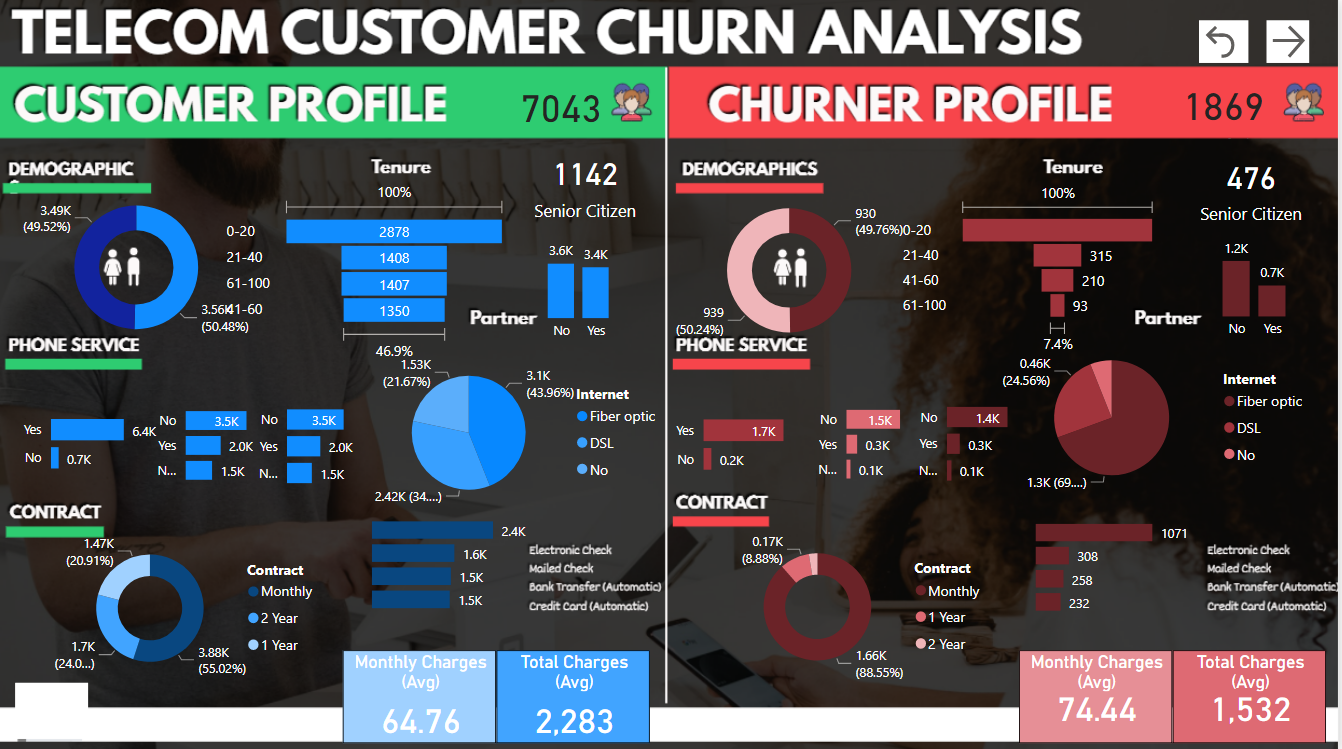

This screenshot's page, from the dashboard's own definition file:
{"tool":"powerbi","page":{"name":"Summary","canvas":[1280,720],"ordinal":1},"visuals":[{"type":"card","fields":{"Values":["CountNonNull(Churned_Data.Churn)"]},"box":[1089,83.6,161.2,54.9],"z":0},{"type":"card","fields":{"Values":["CountNonNull(Telco-Churn-Analysis.Churn)"]},"box":[456.5,84.7,161.6,54.9],"z":1000},{"type":"donutChart","fields":{"Category":["Telco-Churn-Analysis.gender"],"Y":["CountNonNull(Telco-Churn-Analysis.gender)"]},"box":[17.3,169.4,229,174.1],"z":2000},{"type":"donutChart","fields":{"Category":["Churned_Data.gender"],"Y":["CountNonNull(Churned_Data.gender)"]},"box":[639.9,172.2,229.6,174.6],"z":3000},{"type":"funnel","fields":{"Category":["Telco-Churn-Analysis.Tenure_Bin"],"Y":["CountNonNull(Telco-Churn-Analysis.Tenure_Bin)"]},"box":[212.9,169.1,278,180.4],"z":4000},{"type":"funnel","fields":{"Category":["Churned_Data.Tenure_Bin"],"Y":["CountNonNull(Churned_Data.Tenure_Bin)"]},"box":[858.5,169.6,253.1,174.3],"z":5000},{"type":"card","fields":{"Values":["Sum(Telco-Churn-Analysis.SeniorCitizen)"]},"box":[505.1,138,109.8,76.9],"z":6000},{"type":"card","fields":{"Values":["Sum(Churned_Data.SeniorCitizen)"]},"box":[1140.4,141.2,111.4,78.4],"z":7000},{"type":"clusteredColumnChart","fields":{"Category":["Telco-Churn-Analysis.Partner"],"Y":["CountNonNull(Telco-Churn-Analysis.Partner)"]},"box":[489.4,219.6,128.6,116.1],"z":8000},{"type":"clusteredColumnChart","fields":{"Category":["Churned_Data.Partner"],"Y":["CountNonNull(Churned_Data.Partner)"]},"box":[1132.5,214.9,133.3,119.2],"z":9000},{"type":"clusteredBarChart","fields":{"Category":["Telco-Churn-Analysis.PhoneService"],"Y":["CountNonNull(Telco-Churn-Analysis.PhoneService)"]},"box":[17.3,363.9,139.6,114.5],"z":10000},{"type":"clusteredBarChart","fields":{"Category":["Churned_Data.PhoneService"],"Y":["CountNonNull(Churned_Data.PhoneService)"]},"box":[640,363.9,141.2,116.1],"z":11000},{"type":"clusteredBarChart","fields":{"Category":["Telco-Churn-Analysis.OnlineSecurity"],"Y":["CountNonNull(Telco-Churn-Analysis.OnlineSecurity)"]},"box":[131.8,371.8,134.9,103.5],"z":12000},{"type":"clusteredBarChart","fields":{"Category":["Churned_Data.OnlineSecurity"],"Y":["CountNonNull(Churned_Data.OnlineSecurity)"]},"box":[765.5,370.2,125.5,103.5],"z":13000},{"type":"clusteredBarChart","fields":{"Category":["Telco-Churn-Analysis.TechSupport"],"Y":["CountNonNull(Telco-Churn-Analysis.TechSupport)"]},"box":[229,368.6,133.3,109.8],"z":14000},{"type":"clusteredBarChart","fields":{"Category":["Churned_Data.TechSupport"],"Y":["CountNonNull(Churned_Data.TechSupport)"]},"box":[858,367.1,136.5,109.8],"z":15000},{"type":"pieChart","fields":{"Y":["CountNonNull(Telco-Churn-Analysis.InternetService)"],"Category":["Telco-Churn-Analysis.InternetService"]},"box":[342,334.1,299.6,160],"z":16000},{"type":"pieChart","fields":{"Category":["Churned_Data.InternetService"],"Y":["CountNonNull(Churned_Data.InternetService)"]},"box":[952.2,320,307.5,160],"z":17000},{"type":"donutChart","fields":{"Category":["Telco-Churn-Analysis.Contract"],"Y":["CountNonNull(Telco-Churn-Analysis.Contract)"]},"box":[47.1,505.1,268.2,153.7],"z":18000},{"type":"donutChart","fields":{"Category":["Churned_Data.Contract"],"Y":["CountNonNull(Churned_Data.Contract)"]},"box":[683.8,503.5,268,154.1],"z":19000},{"type":"clusteredBarChart","fields":{"Category":["Telco-Churn-Analysis.PaymentMethod"],"Y":["CountNonNull(Telco-Churn-Analysis.PaymentMethod)"]},"box":[351.4,486.3,161.6,102],"z":20000},{"type":"clusteredBarChart","fields":{"Category":["Churned_Data.PaymentMethod"],"Y":["CountNonNull(Churned_Data.PaymentMethod)"]},"box":[985.1,487.8,160,102],"z":21000},{"type":"card","title":"Monthly Charges (Avg)","fields":{"Values":["Avg(Telco-Churn-Analysis.MonthlyCharges)"]},"box":[328.1,622.5,146.5,88.9],"z":22000},{"type":"card","title":"Monthly Charges (Avg)","fields":{"Values":["Avg(Churned_Data.MonthlyCharges)"]},"box":[974.4,622.5,146.5,88.9],"z":23000},{"type":"card","title":"Total Charges (Avg)","fields":{"Values":["Avg(Churned_Data.TotalCharges)"]},"box":[1120.9,622.5,146.5,88.9],"z":24000},{"type":"card","title":"Total Charges (Avg)","fields":{"Values":["Avg(Telco-Churn-Analysis.TotalCharges)"]},"box":[474.7,622.5,146.5,88.9],"z":25000},{"type":"actionButton","box":[1211,20.4,40.8,40.8],"z":26000},{"type":"actionButton","box":[1146.7,20.4,47.1,40.8],"z":27000},{"type":"shape","box":[15.5,653.1,69.3,53.7],"z":27001}]}

Visuals, with their boxes in screenshot pixels (x1, y1, x2, y2), scaled from the page's 1280x720 canvas onto the 1342x749 screenshot:
card - CountNonNull(Churned_Data.Churn): bbox=[1142, 87, 1311, 144]
card - CountNonNull(Telco-Churn-Analysis.Churn): bbox=[479, 88, 648, 145]
donutChart - Telco-Churn-Analysis.gender x CountNonNull(Telco-Churn-Analysis.gender): bbox=[18, 176, 258, 357]
donutChart - Churned_Data.gender x CountNonNull(Churned_Data.gender): bbox=[671, 179, 912, 361]
funnel - Telco-Churn-Analysis.Tenure_Bin x CountNonNull(Telco-Churn-Analysis.Tenure_Bin): bbox=[223, 176, 515, 364]
funnel - Churned_Data.Tenure_Bin x CountNonNull(Churned_Data.Tenure_Bin): bbox=[900, 176, 1165, 358]
card - Sum(Telco-Churn-Analysis.SeniorCitizen): bbox=[530, 144, 645, 224]
card - Sum(Churned_Data.SeniorCitizen): bbox=[1196, 147, 1312, 228]
clusteredColumnChart - Telco-Churn-Analysis.Partner x CountNonNull(Telco-Churn-Analysis.Partner): bbox=[513, 228, 648, 349]
clusteredColumnChart - Churned_Data.Partner x CountNonNull(Churned_Data.Partner): bbox=[1187, 224, 1327, 348]
clusteredBarChart - Telco-Churn-Analysis.PhoneService x CountNonNull(Telco-Churn-Analysis.PhoneService): bbox=[18, 379, 164, 498]
clusteredBarChart - Churned_Data.PhoneService x CountNonNull(Churned_Data.PhoneService): bbox=[671, 379, 819, 499]
clusteredBarChart - Telco-Churn-Analysis.OnlineSecurity x CountNonNull(Telco-Churn-Analysis.OnlineSecurity): bbox=[138, 387, 280, 494]
clusteredBarChart - Churned_Data.OnlineSecurity x CountNonNull(Churned_Data.OnlineSecurity): bbox=[803, 385, 934, 493]
clusteredBarChart - Telco-Churn-Analysis.TechSupport x CountNonNull(Telco-Churn-Analysis.TechSupport): bbox=[240, 383, 380, 498]
clusteredBarChart - Churned_Data.TechSupport x CountNonNull(Churned_Data.TechSupport): bbox=[900, 382, 1043, 496]
pieChart - CountNonNull(Telco-Churn-Analysis.InternetService) x Telco-Churn-Analysis.InternetService: bbox=[359, 348, 673, 514]
pieChart - Churned_Data.InternetService x CountNonNull(Churned_Data.InternetService): bbox=[998, 333, 1321, 499]
donutChart - Telco-Churn-Analysis.Contract x CountNonNull(Telco-Churn-Analysis.Contract): bbox=[49, 525, 331, 685]
donutChart - Churned_Data.Contract x CountNonNull(Churned_Data.Contract): bbox=[717, 524, 998, 684]
clusteredBarChart - Telco-Churn-Analysis.PaymentMethod x CountNonNull(Telco-Churn-Analysis.PaymentMethod): bbox=[368, 506, 538, 612]
clusteredBarChart - Churned_Data.PaymentMethod x CountNonNull(Churned_Data.PaymentMethod): bbox=[1033, 507, 1201, 614]
"Monthly Charges (Avg)" card: bbox=[344, 648, 498, 740]
"Monthly Charges (Avg)" card: bbox=[1022, 648, 1175, 740]
"Total Charges (Avg)" card: bbox=[1175, 648, 1329, 740]
"Total Charges (Avg)" card: bbox=[498, 648, 651, 740]
actionButton: bbox=[1270, 21, 1312, 64]
actionButton: bbox=[1202, 21, 1252, 64]
shape: bbox=[16, 679, 89, 735]
